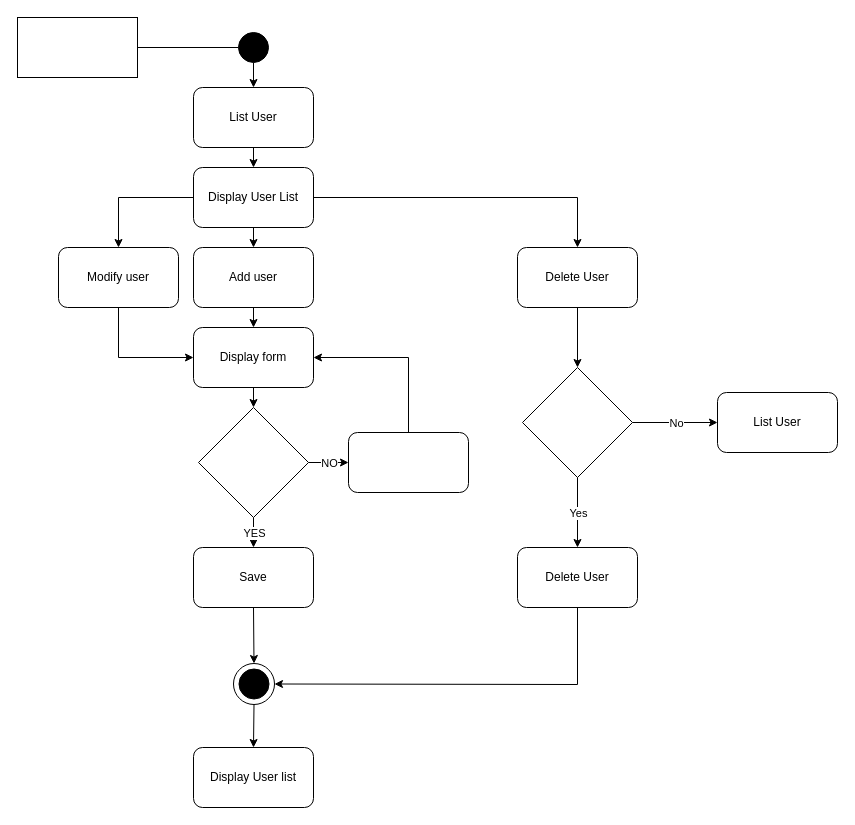
Image size: 855x825. Some labels were removed from this diagram. The shapes that lost their labels are listed below. From the top down, each one's centre as x and y in pixels, then its label:
(77,47): landing page
(577,422): Confirmation ?
(253,462): Form correct ?
(408,462): Invalid form
